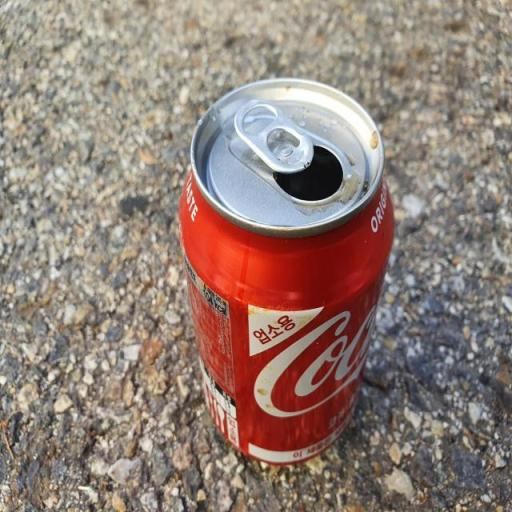metal: (174, 67, 410, 485)
